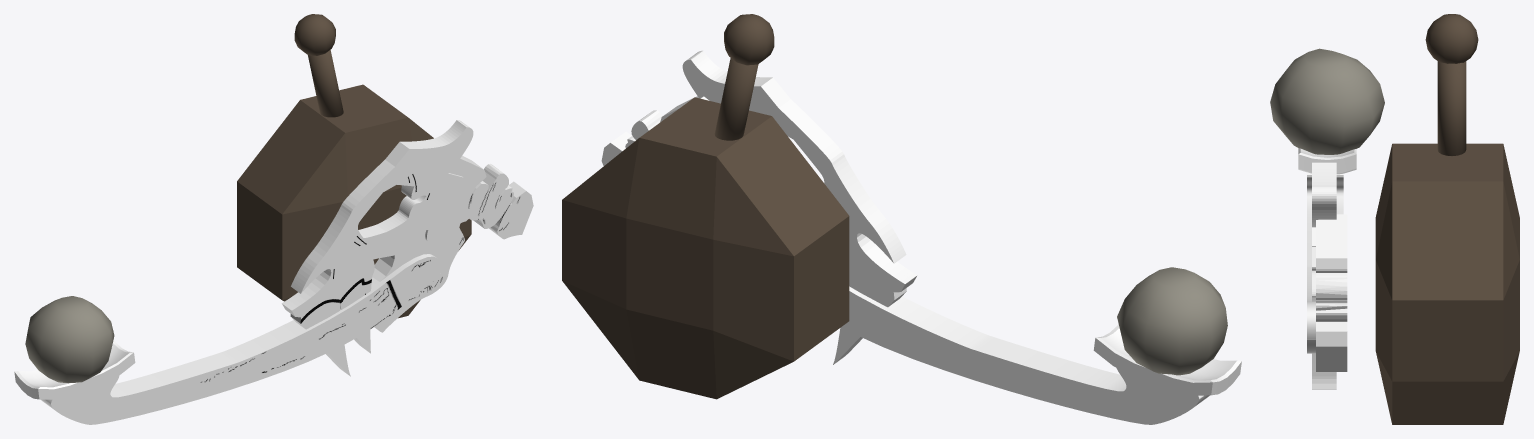
File: turret_1_3.glb
3 views of the same model, side by side, from view 1: azimuth 30°, elevation 25°; view 2: azimuth 150°, elevation 25°; view 3: azimuth 270°, elevation 25° (orthographic). The views are drawn at different scales.
Parts seen in each view (by area): view 1: base.001, skull_catapult, skull_head, skull_neck, rock.019; view 2: base.001, skull_catapult, skull_head, rock.019, skull_neck; view 3: base.001, rock.019, skull_neck, skull_catapult, skull_head.
Part boxes in pixels (x1,y1,x2,y2): base.001: (237, 14, 471, 318); skull_catapult: (14, 254, 440, 424); skull_head: (282, 120, 473, 376); skull_neck: (372, 155, 533, 332); rock.019: (25, 296, 114, 383); base.001: (562, 14, 849, 399); skull_catapult: (841, 286, 1241, 424); skull_head: (682, 50, 917, 364); rock.019: (1117, 267, 1227, 375); skull_neck: (601, 96, 709, 165); base.001: (1375, 14, 1519, 424); rock.019: (1270, 48, 1384, 154); skull_neck: (1316, 214, 1347, 371); skull_catapult: (1298, 148, 1356, 353); skull_head: (1312, 162, 1336, 389).
Bounding box in the file's own units: 2.85 × 1.7 × 0.9969.
5 materials, 3 textured.
